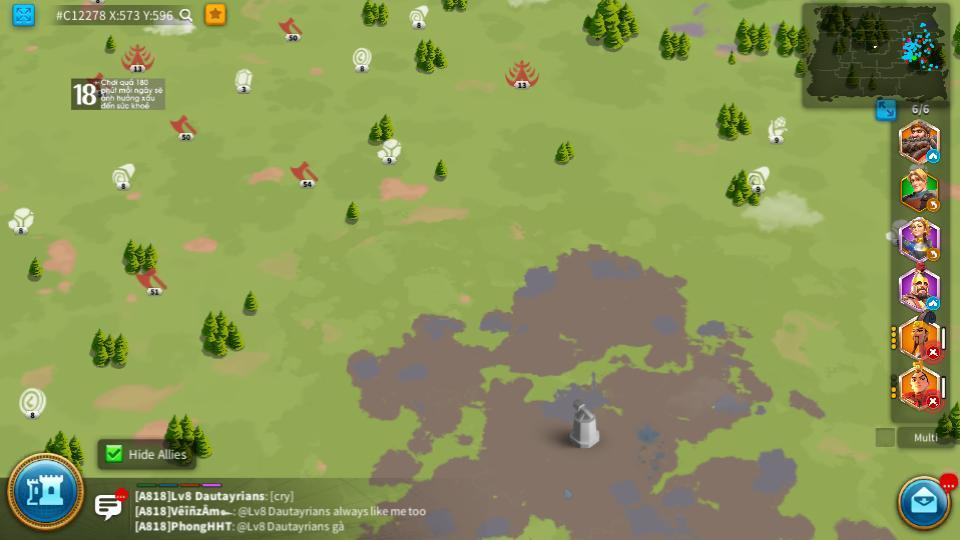gem-z-out: (234, 67, 253, 90)
march_attacking: (925, 395, 942, 407), (926, 348, 940, 359)
march_idle: (925, 298, 938, 309), (925, 151, 938, 162)
march_returning: (926, 248, 941, 261), (927, 199, 941, 211)
